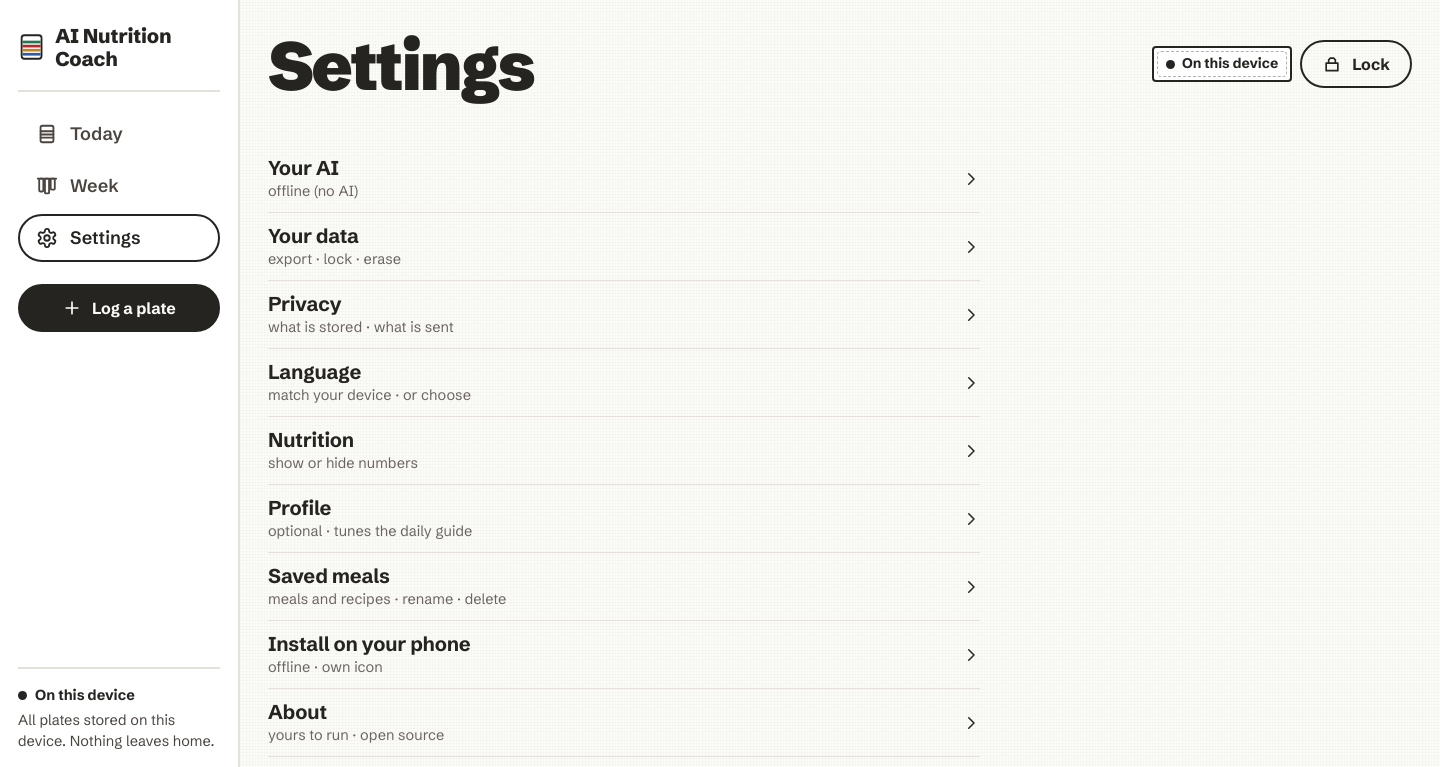
Test case: ProfileScreen › is reachable from the Settings board
Click the button "Profile optional · tunes the daily guide": {"x": 300, "y": 507} [268,485,980,553]
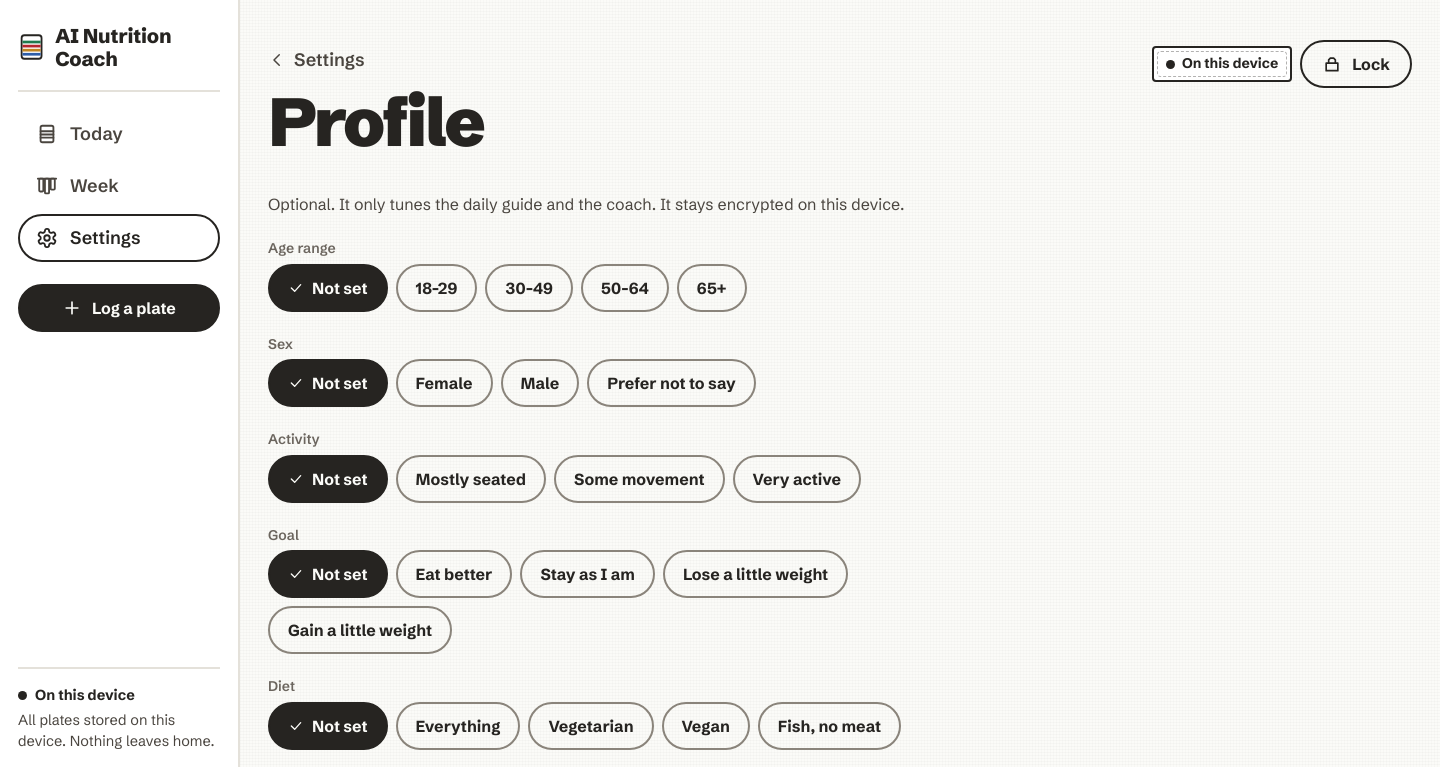
Expected: the heading "Profile" is shown, [268,92,483,153]
